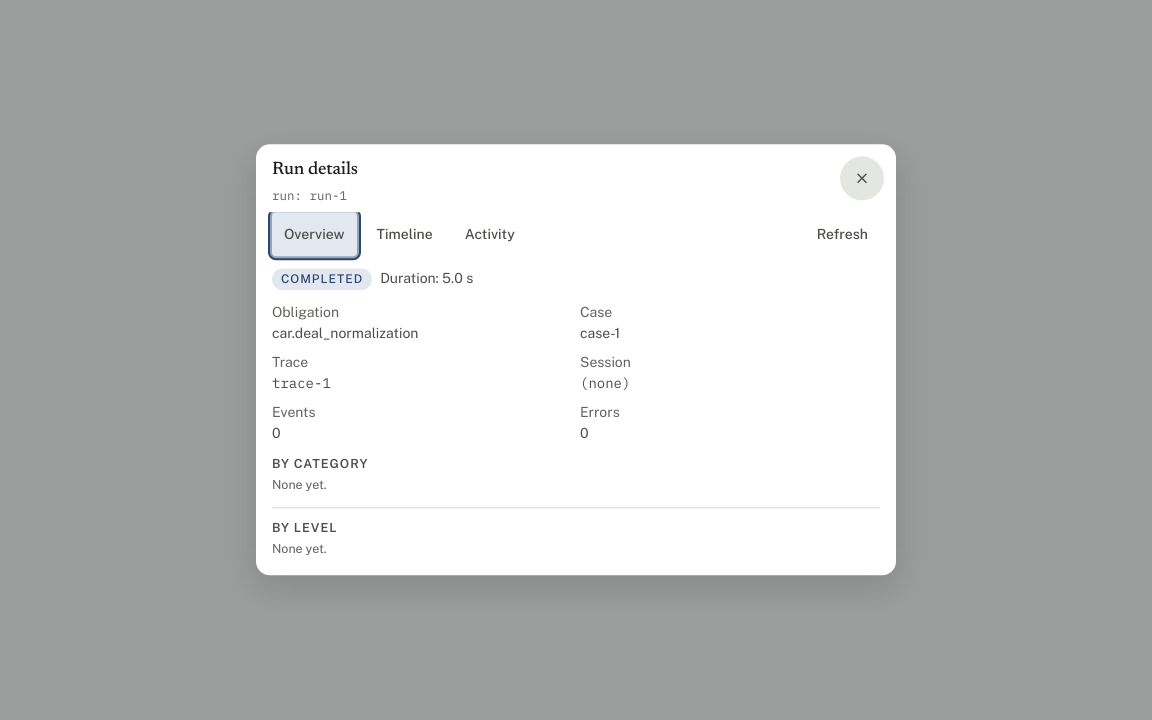
Scenario: RuntimeInspector › renders an empty Timeline state distinctly from the loading/error states
The width and height of the screenshot is (1152, 720).
expect the element with test id "runtime-inspector-overview" is shown: met, box [272,269,631,557]
Click the tab with test id "runtime-inspector-tab-timeline": (405,235) [364,213,445,257]
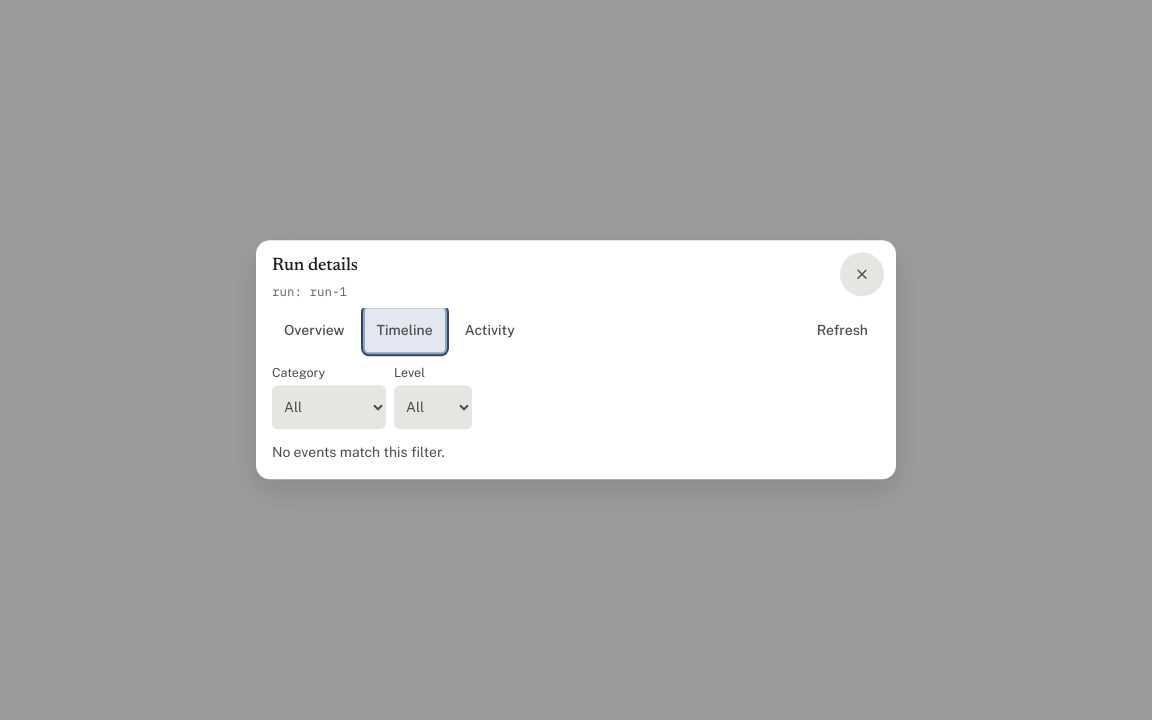
expect the text "No events match this filter." is shown: met, box [272,444,445,460]
